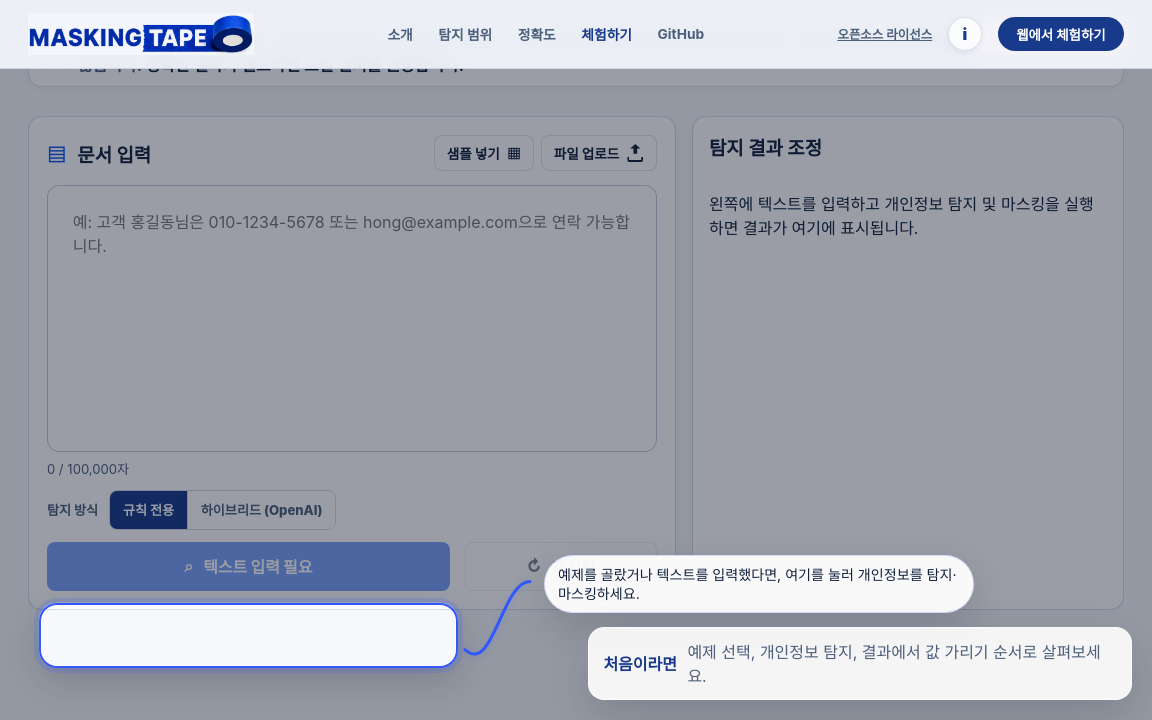
Scenario: DemoPage detection mode (#547) › tells the user when hybrid fell back to rule results instead of passing silently
(page scrolled)
Press Escape
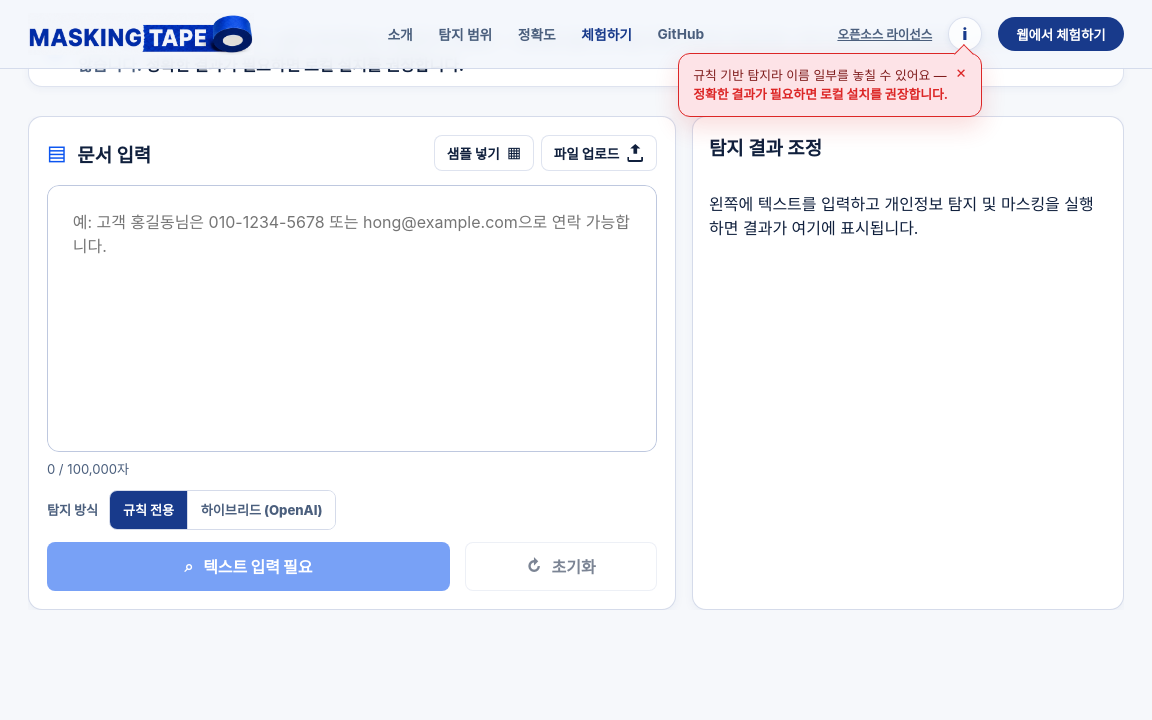
Click the button "하이브리드 (OpenAI)": (261, 510) [187,491,335,529]
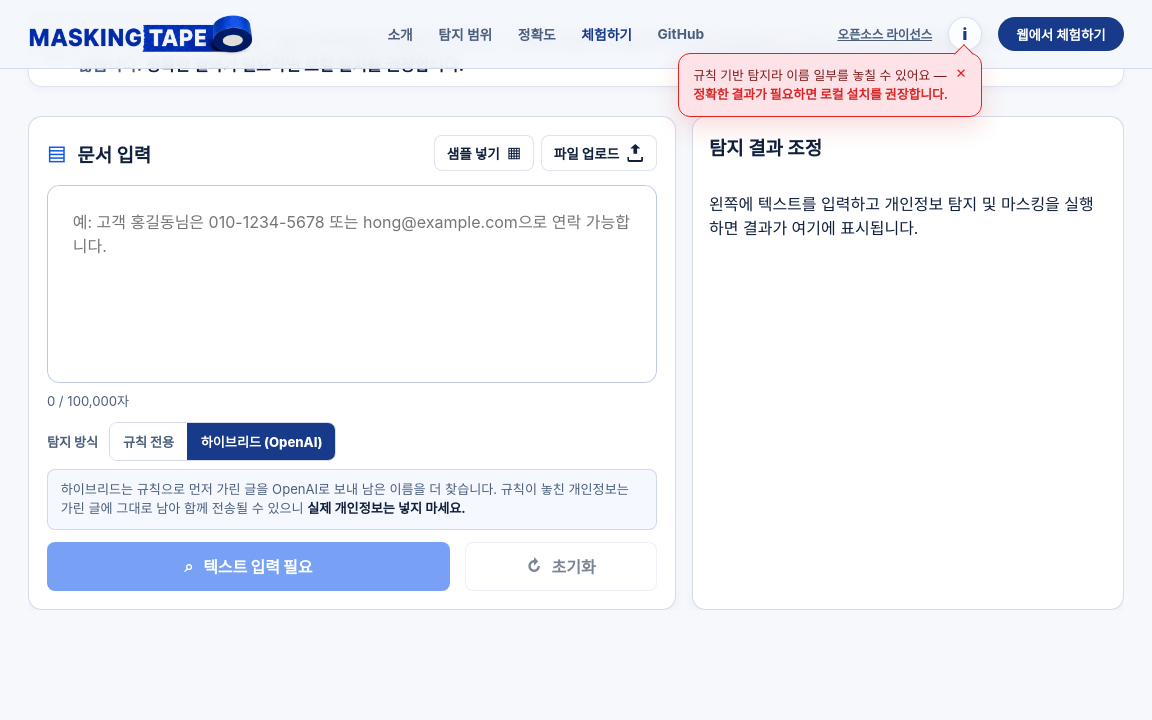
In the text box named "탐지할 텍스트 입력": (352, 284) [47,185,657,383], type "고객 김민준 010-1234-5678"
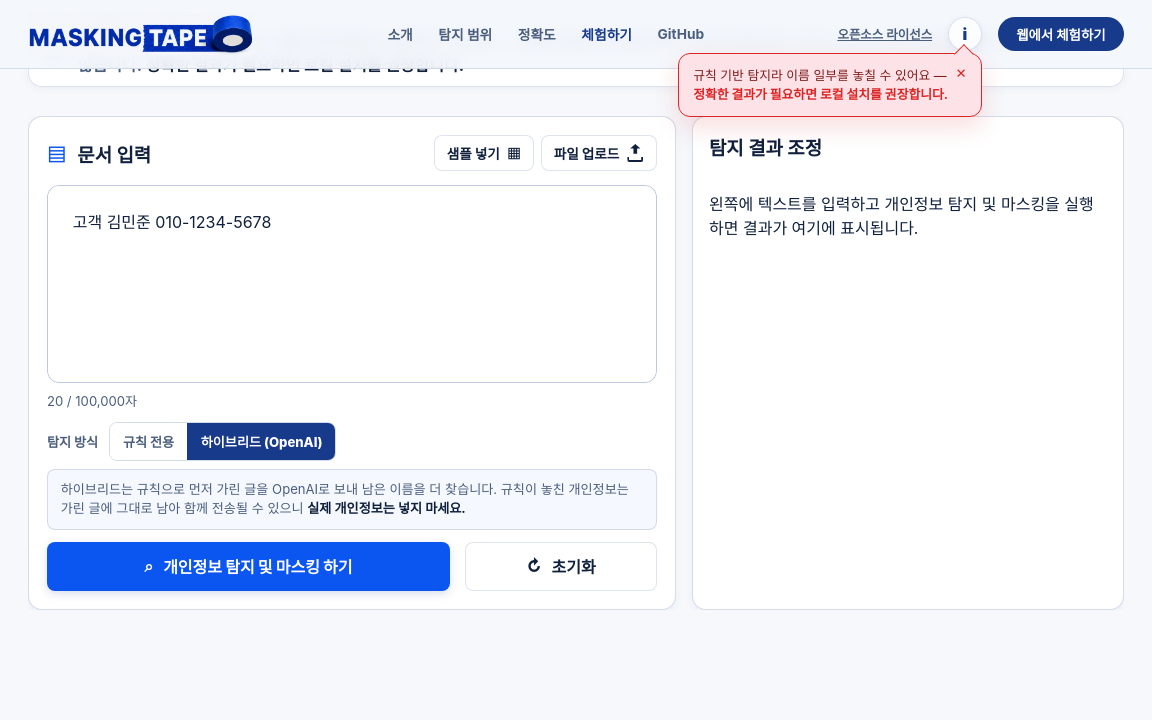
Click the button "⌕ 개인정보 탐지 및 마스킹 하기": (248, 566) [47,542,450,591]
(page scrolled)
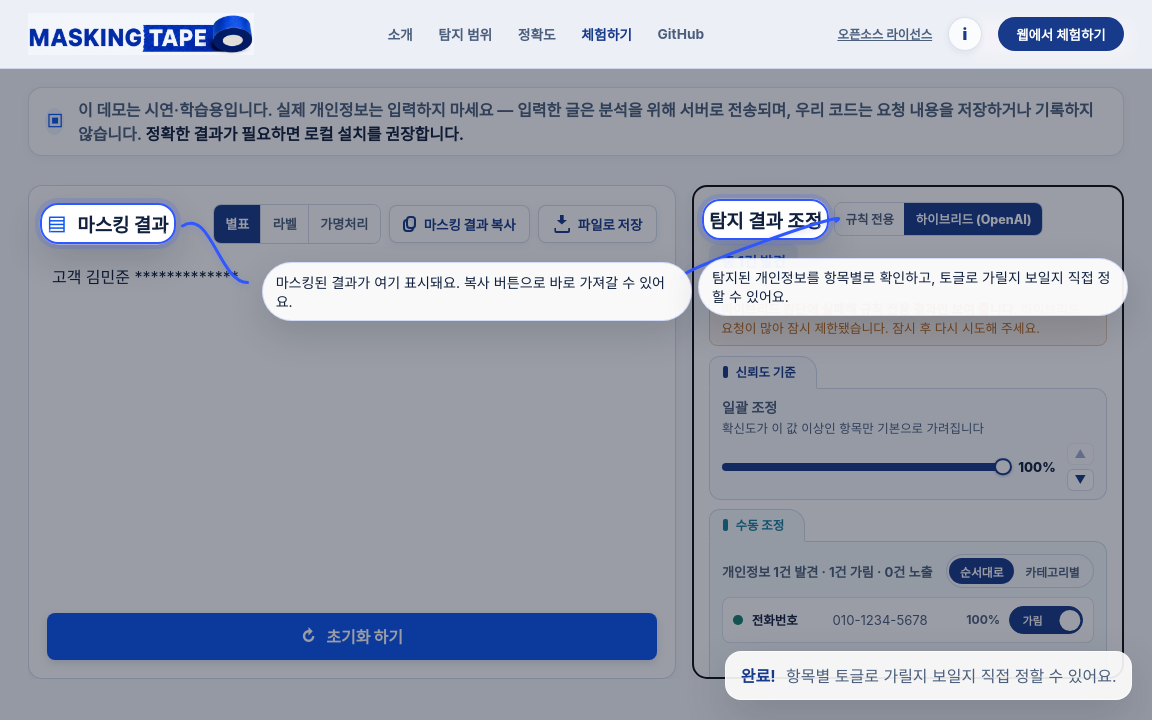
Expected: the message shows "하이브리드 판단에 실패해 규칙 전용 결과만 보여 줍니다", [721,302,1018,317]
Expected: the message shows "잠시 후 다시 시도해 주세요", [721,302,1080,336]
